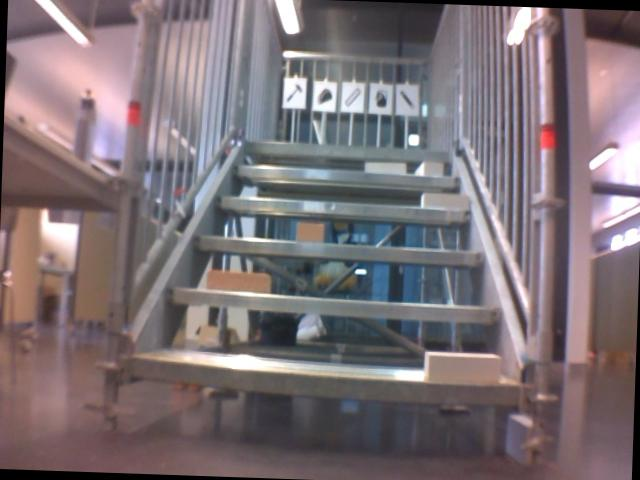brick: (422, 351, 499, 384), (208, 271, 269, 293), (421, 192, 472, 210), (365, 161, 404, 174), (296, 223, 322, 242), (416, 161, 443, 175)
bucket: (372, 87, 389, 109)
edge: (131, 357, 523, 405), (168, 287, 501, 322), (195, 235, 482, 264), (214, 197, 471, 221), (232, 165, 459, 186), (243, 140, 449, 161)
hammer: (284, 81, 304, 106)
pencil: (397, 88, 416, 111)
ruler: (341, 83, 362, 110)
steps: (123, 132, 534, 412)
taco: (314, 84, 333, 107)
